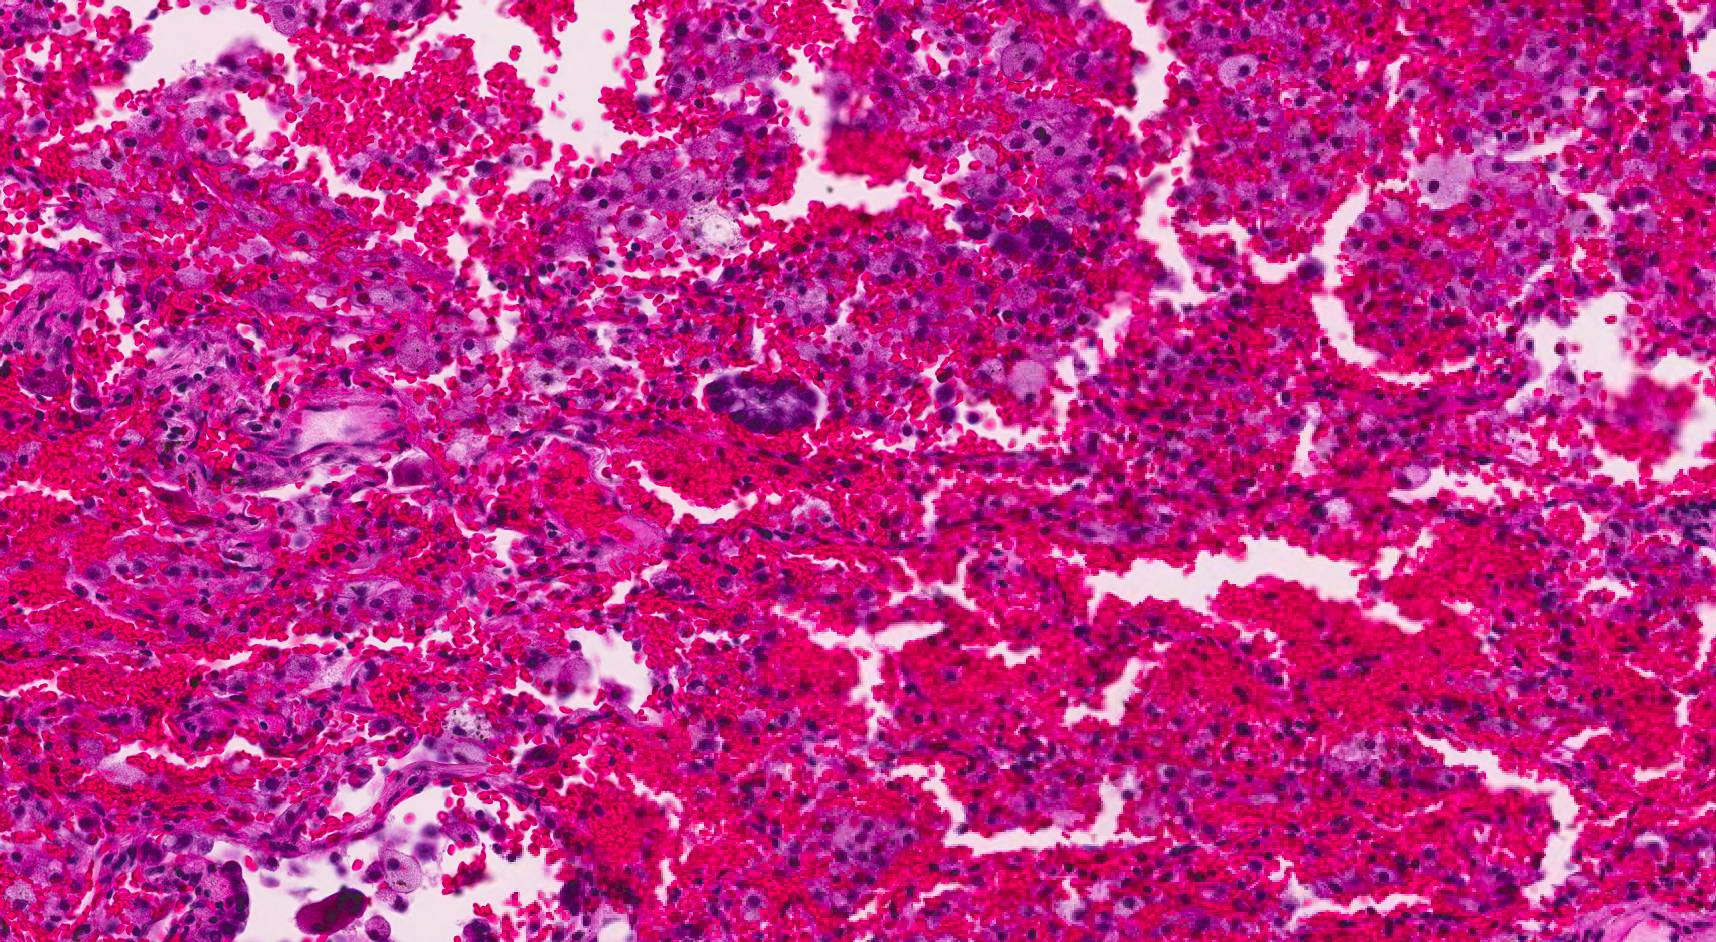stas: (703, 373, 822, 434)
